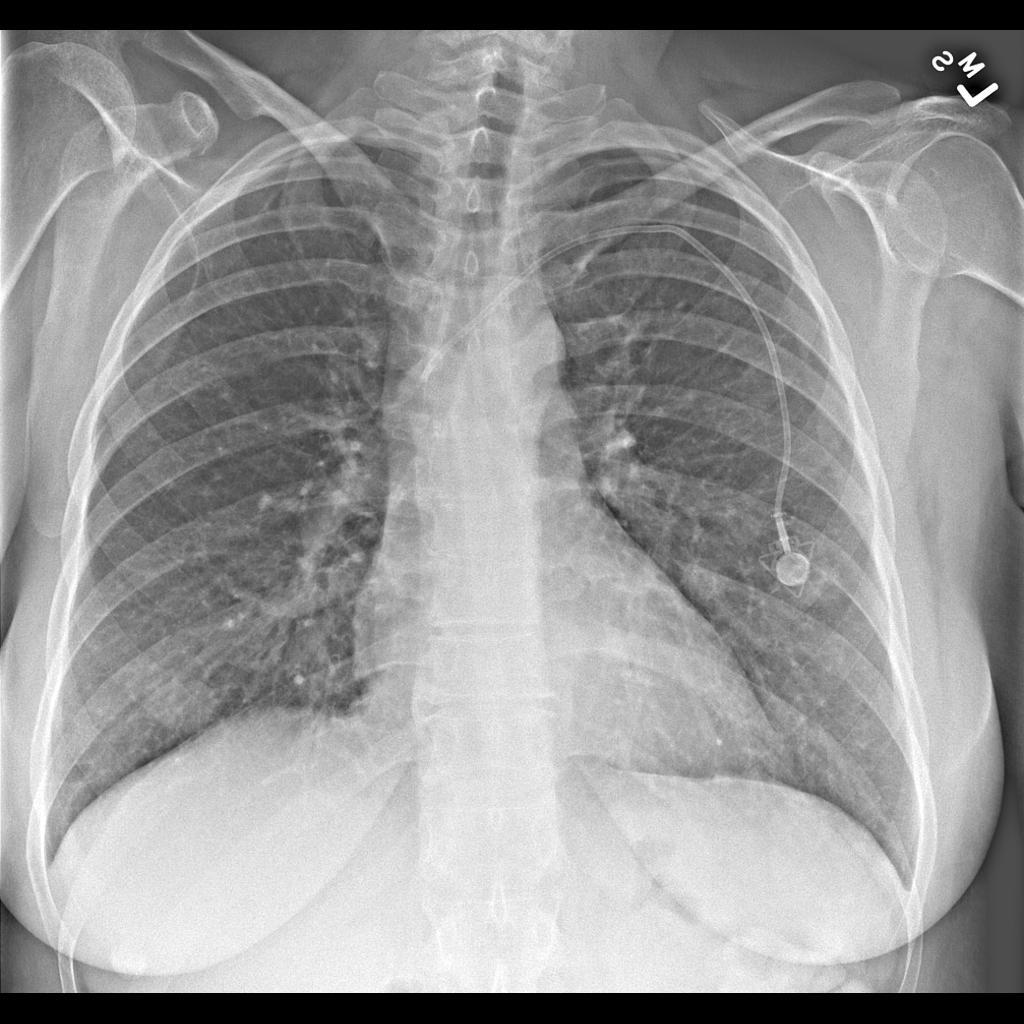Nodule: (148, 673, 229, 744), (673, 551, 739, 612)
